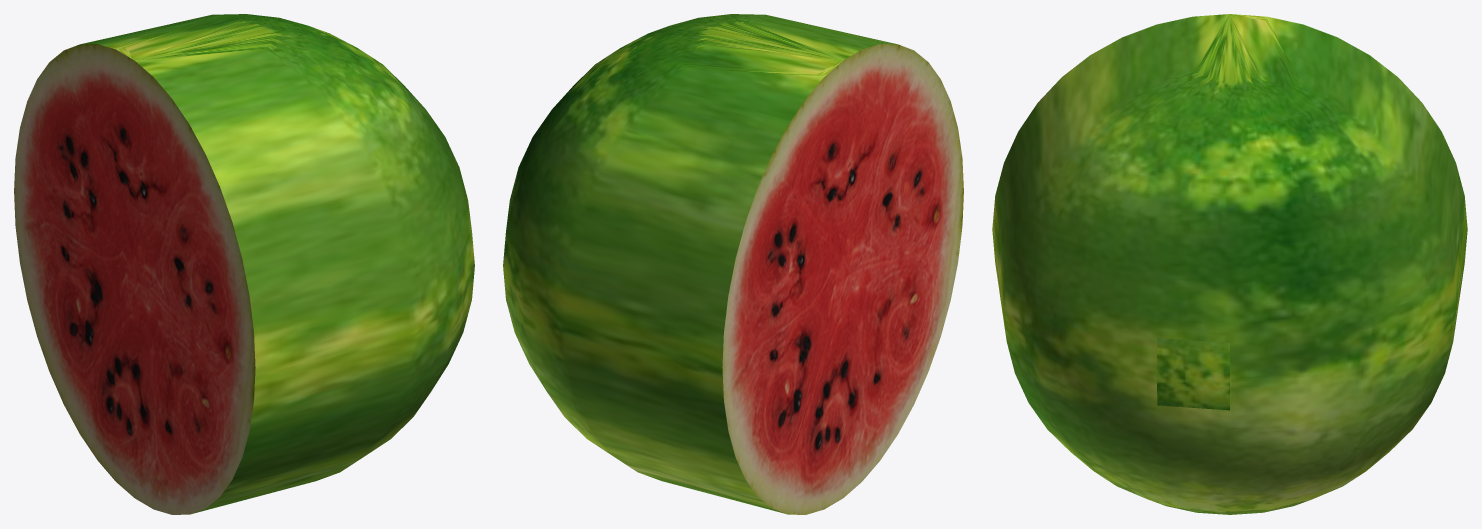
File: watermelon.fbx
3 views of the same model, side by side, from view 1: azimuth 30°, elevation 25°; view 2: azimuth 150°, elevation 25°; view 3: azimuth 270°, elevation 25° (orthographic).
Visible parts, largest first — view 1: polySurface1; view 2: polySurface1; view 3: polySurface1.
Part boxes in pixels (left/top/right/bottom): polySurface1: left=14, top=14, right=474, bottom=514; polySurface1: left=503, top=14, right=963, bottom=514; polySurface1: left=992, top=14, right=1467, bottom=514.
Size of the model in its own units: 8.04 by 10.88 by 10.88.
Materials: 2 (2 with a texture image).
